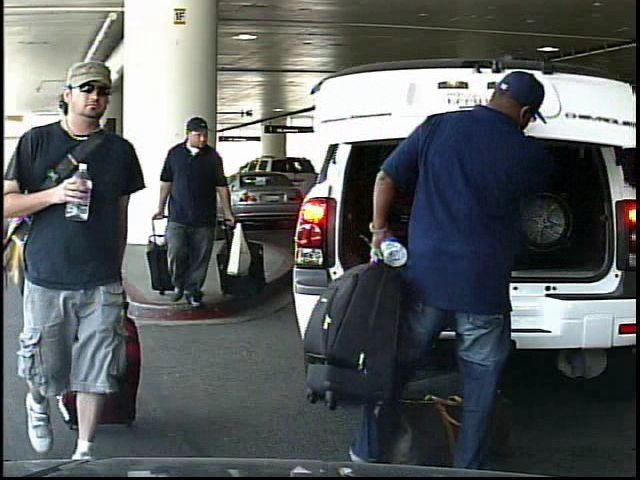person: (355, 74, 541, 476), (7, 61, 170, 480), (157, 114, 252, 314)
